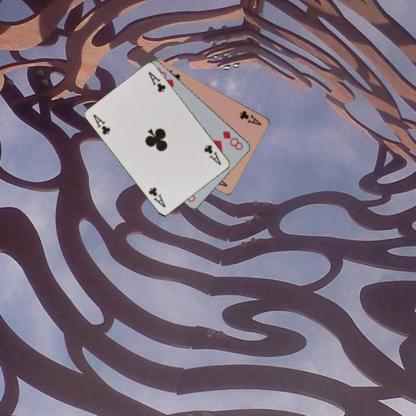8d: (220, 128, 245, 152)
Ac: (201, 142, 222, 167), (91, 112, 112, 136), (237, 108, 263, 127)
